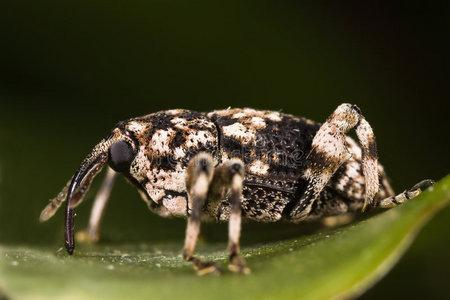Curculionidae: (38, 102, 434, 278)
